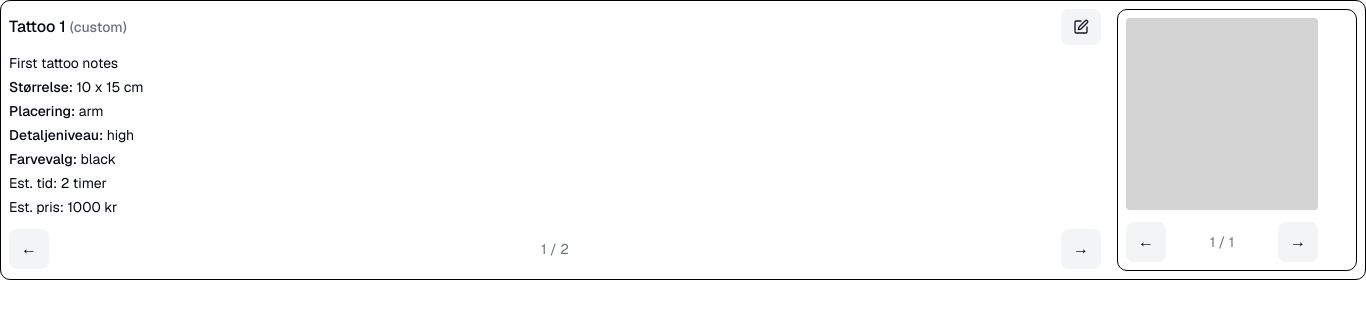
Test case: TattooInfo › displays 'Flash' for flash tattoos
The width and height of the screenshot is (1366, 319).
// Navigate to second tattoo
Click the button named "next tattoo" at (1081, 249), box [1061,229,1101,269]
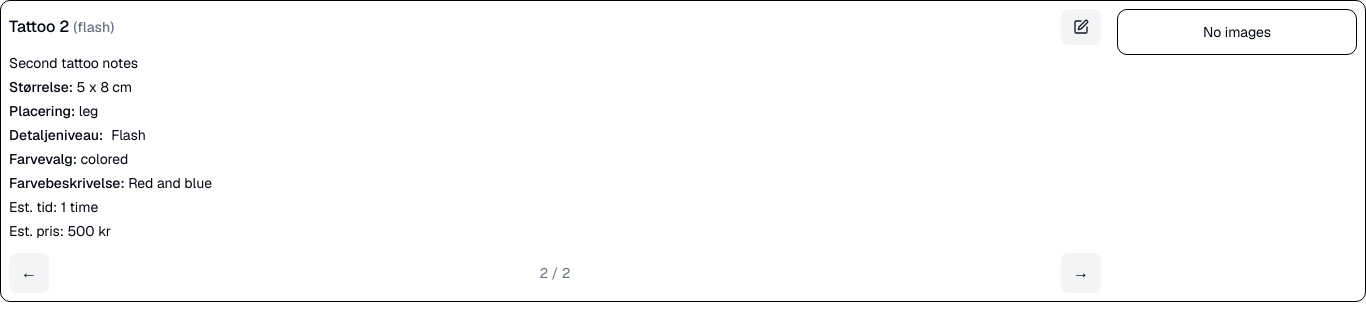
Expected: the text "Detaljeniveau:" is shown, [9,125,103,145]
Expected: the text "Flash" is shown, [111,125,146,145]
